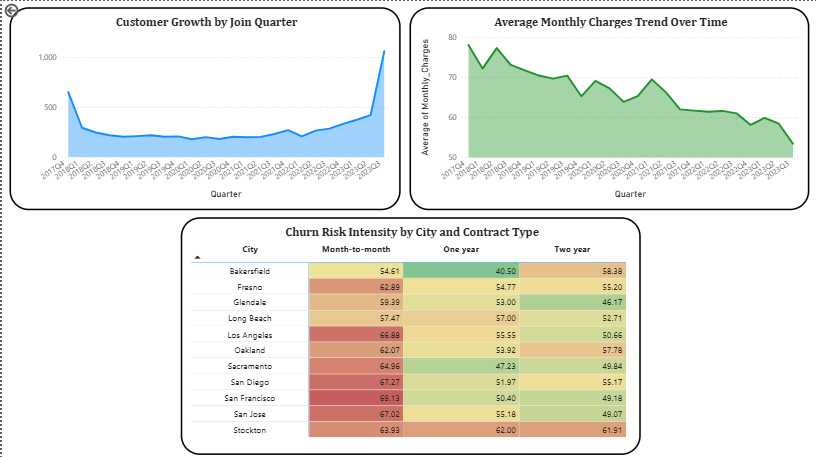

What the dashboard file says about the page in this screenshot:
{"tool":"powerbi","page":{"name":"Trend Analysis","canvas":[1280,720],"ordinal":1},"visuals":[{"type":"lineChart","title":"Customer Growth by Join Quarter","fields":{"Category":["Dim_Date.Quarter"],"Y":["CountNonNull(Fact_CustomerAccount.CustomerAccountKey)"]},"box":[12.5,10,613.8,318.8],"z":0},{"type":"lineChart","title":"Average Monthly Charges Trend Over Time","fields":{"Y":["Avg(Fact_CustomerAccount.Monthly_Charges)"],"Category":["Dim_Date.Quarter"]},"box":[640,10,627.5,318.8],"z":1000},{"type":"pivotTable","title":"Churn Risk Intensity by City and Contract Type","fields":{"Rows":["Dim_Location.City"],"Columns":["Dim_Contract.Contract"],"Values":["Avg(Fact_CustomerAccount.Churn_Score)"]},"box":[280,338.8,721.2,372.5],"z":2000},{"type":"actionButton","box":[0,0,36.2,30],"z":3000}]}

Visuals, with their boxes in screenshot pixels (x1, y1, x2, y2), scaled from the page's 1280x720 canvas onto the 817x457 screenshot:
"Customer Growth by Join Quarter" lineChart: 8 6 400 209
"Average Monthly Charges Trend Over Time" lineChart: 408 6 809 209
"Churn Risk Intensity by City and Contract Type" pivotTable: 179 215 639 451
actionButton: 0 0 23 19
